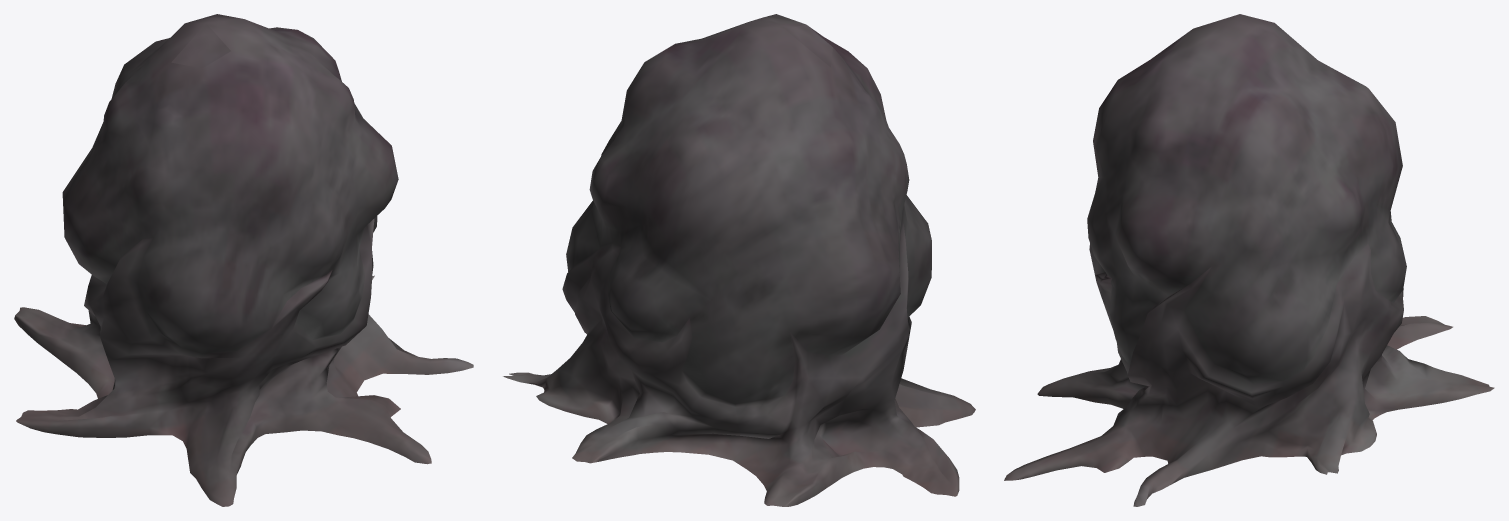
Rendered from Cocoon (33).fbx.
The picture shows the model from 3 angles, left to right: view 1: azimuth 30°, elevation 25°; view 2: azimuth 150°, elevation 25°; view 3: azimuth 270°, elevation 25°; orthographic projection. The views are drawn at different scales.
Parts seen in each view (by area): view 1: Egg; view 2: Egg; view 3: Egg.
Part boxes in pixels (<box>): Egg: <box>14,14,473,506</box>; Egg: <box>503,14,975,506</box>; Egg: <box>1004,14,1494,506</box>.
Bounding box in the file's own units: 1.62 × 1.56 × 1.66.
